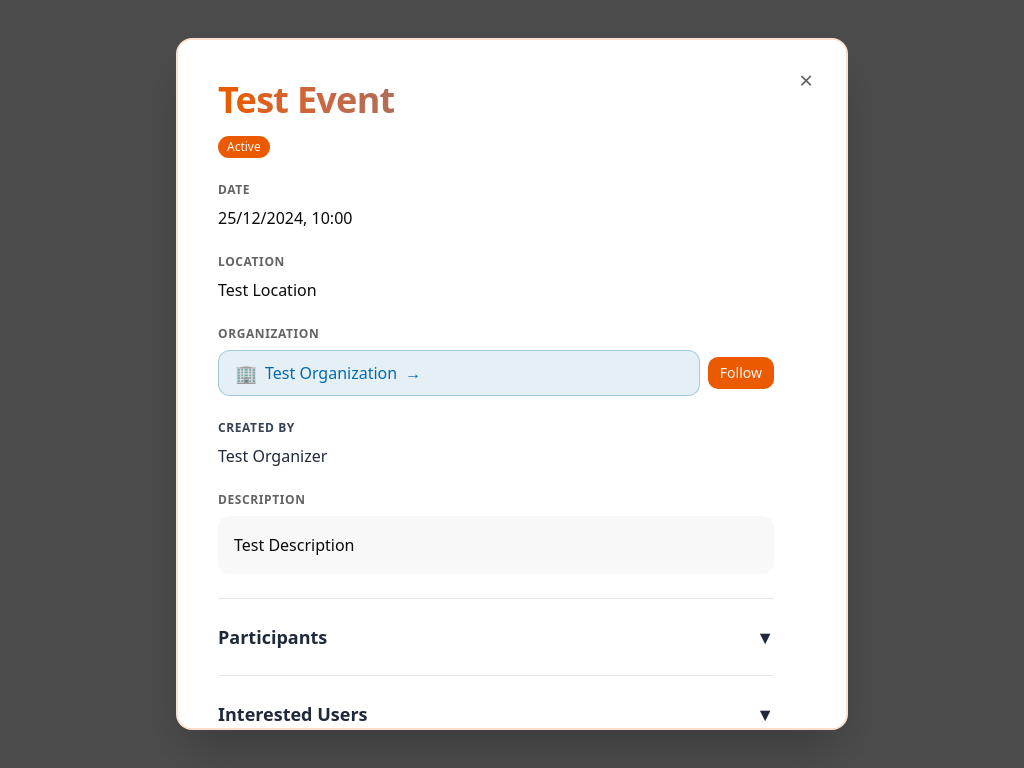
it: EventModal › Participants Section › should display an error message if fetching participants fails
Expected: the heading "Test Event" is shown, [218,80,774,120]
Click the button "Participants ▼" at (273, 637), box [218,623,774,651]
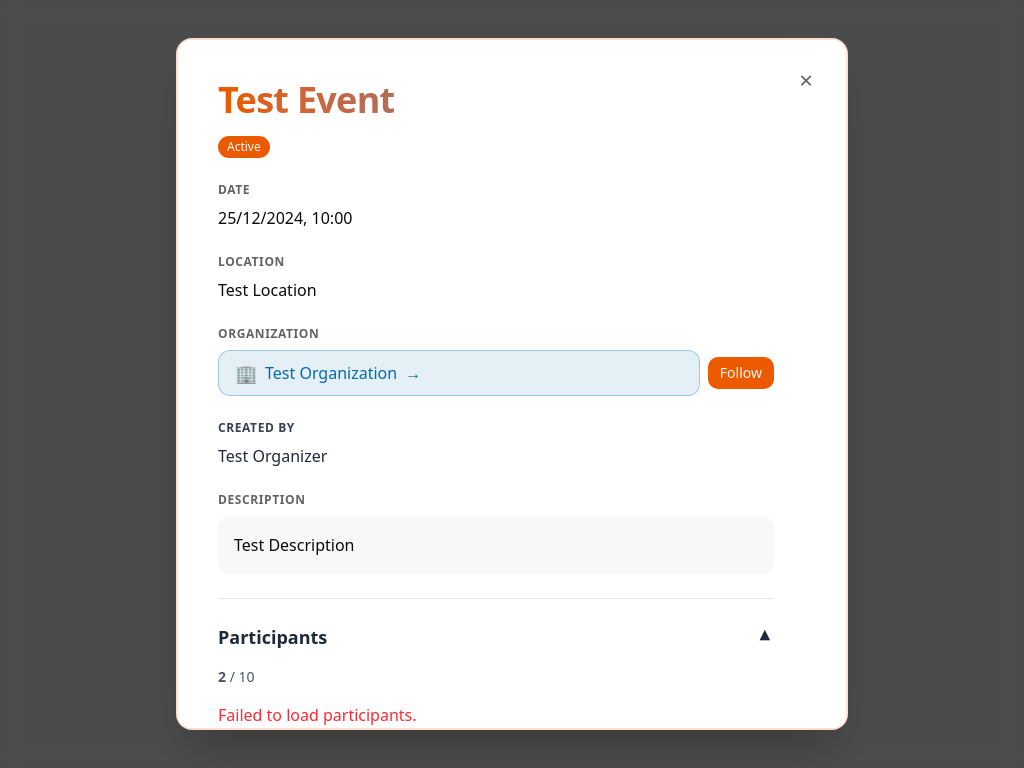
Expected: the text "Failed to load participants." is shown, [218,704,416,726]
